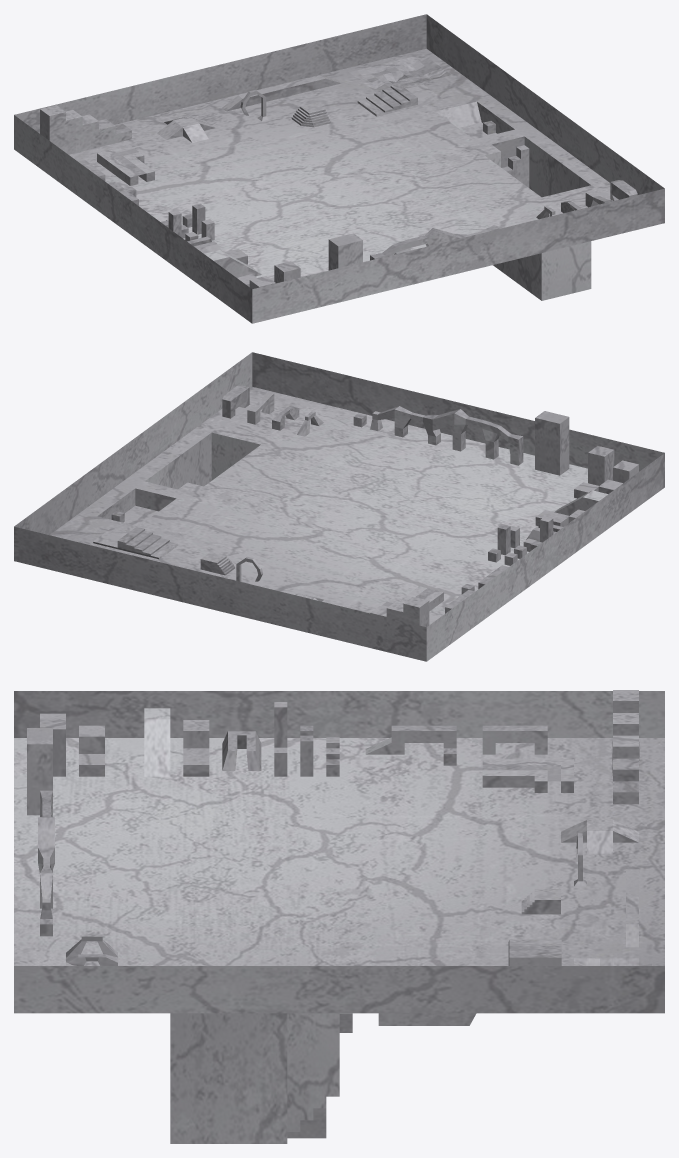
3 views of the same model, one above another, from view 1: azimuth 30°, elevation 25°; view 2: azimuth 150°, elevation 25°; view 3: azimuth 270°, elevation 25° (orthographic). The views are drawn at different scales.
Visible parts, largest first — view 1: testMESH; view 2: testMESH; view 3: testMESH.
Boxes of the visible parts, x1,y1,x2,y2 form: testMESH: (14, 14, 664, 323); testMESH: (14, 352, 664, 661); testMESH: (14, 690, 664, 1143).
Bounding box in the file's own units: 5000 × 1800 × 5000.
